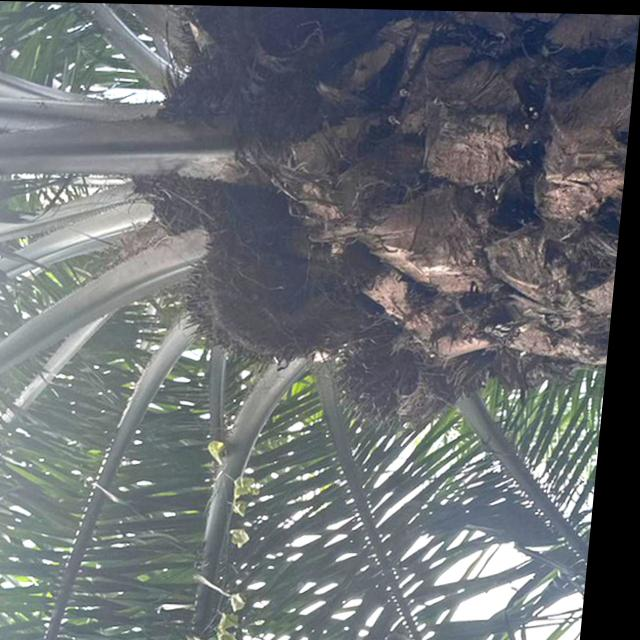unripe: (175, 247, 348, 374)
